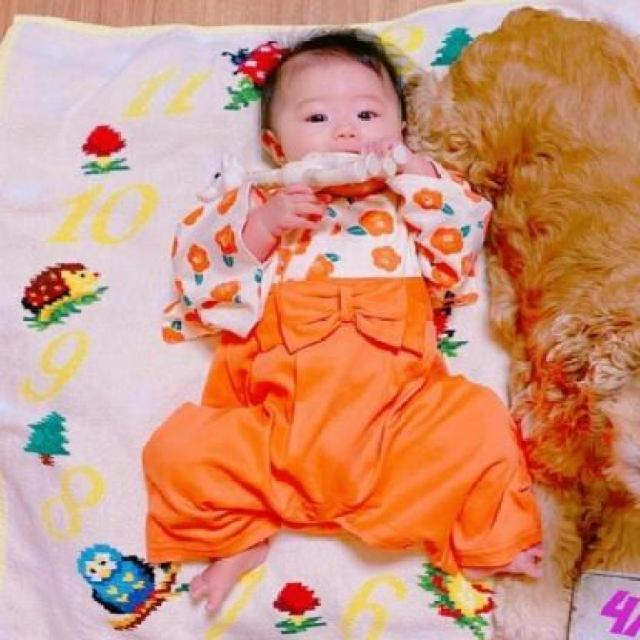baby: (142, 29, 538, 611)
